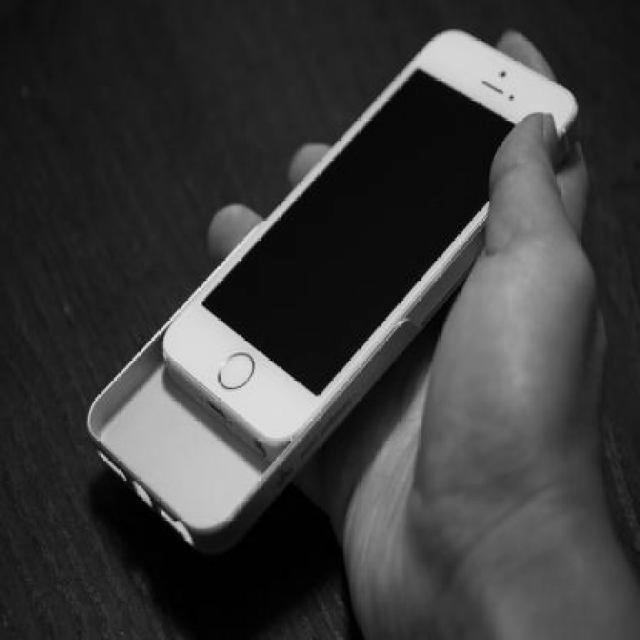fake: (160, 28, 582, 464)
